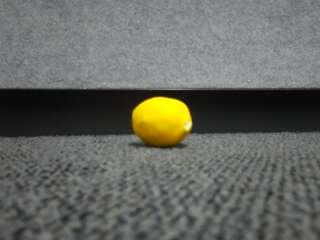lemon: (132, 98, 192, 149)
